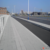zebra: (1, 1, 50, 41)
